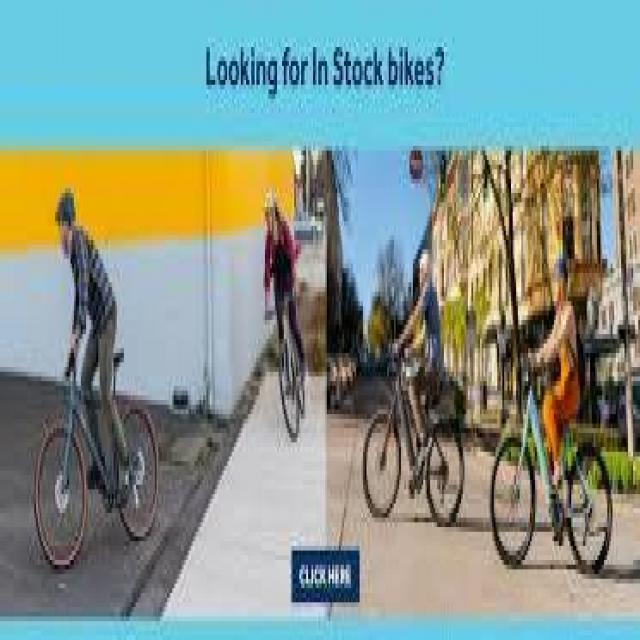bicycle: (34, 340, 162, 571), (490, 363, 618, 580), (364, 340, 467, 524), (278, 293, 307, 443)
